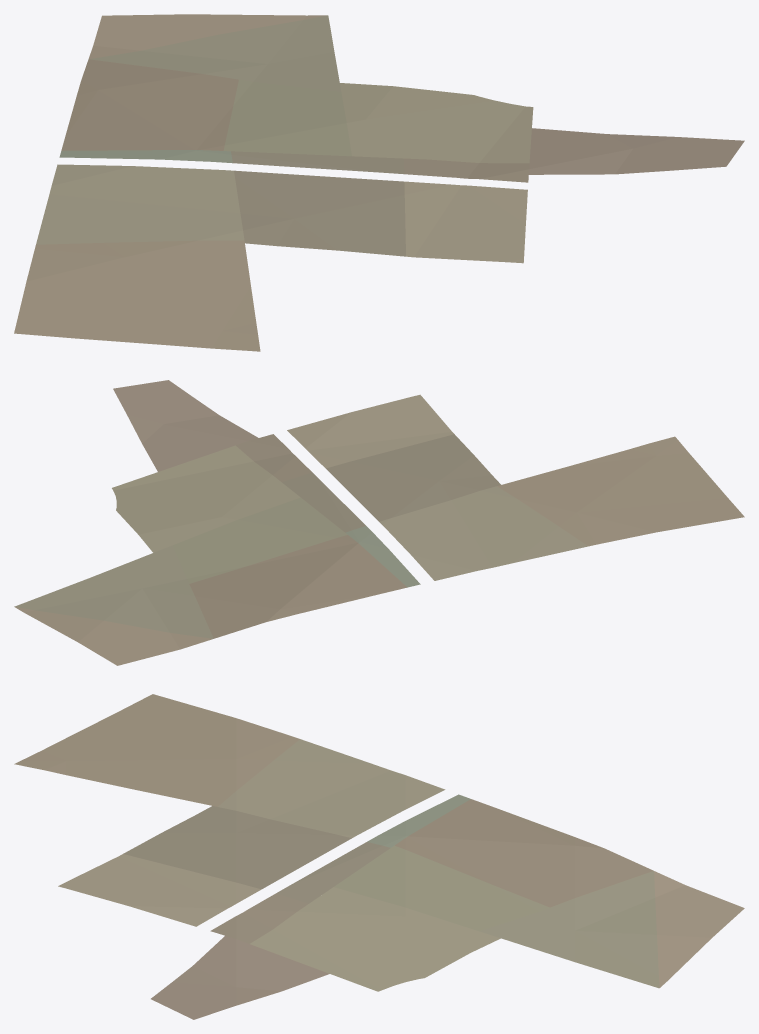
Rendered from farm_27_10_soil.glb.
The picture shows the model from 3 angles, top to bottom: view 1: azimuth 30°, elevation 25°; view 2: azimuth 150°, elevation 25°; view 3: azimuth 270°, elevation 25°; orthographic projection. The views are drawn at different scales.
Visible parts, largest first — view 1: geometry_0; view 2: geometry_0; view 3: geometry_0.
Part boxes in pixels (bbox=[...]): geometry_0: bbox=[14, 14, 744, 351]; geometry_0: bbox=[14, 380, 744, 665]; geometry_0: bbox=[14, 694, 744, 1019].
Size of the model in its own units: 356 by 20.88 by 345.
